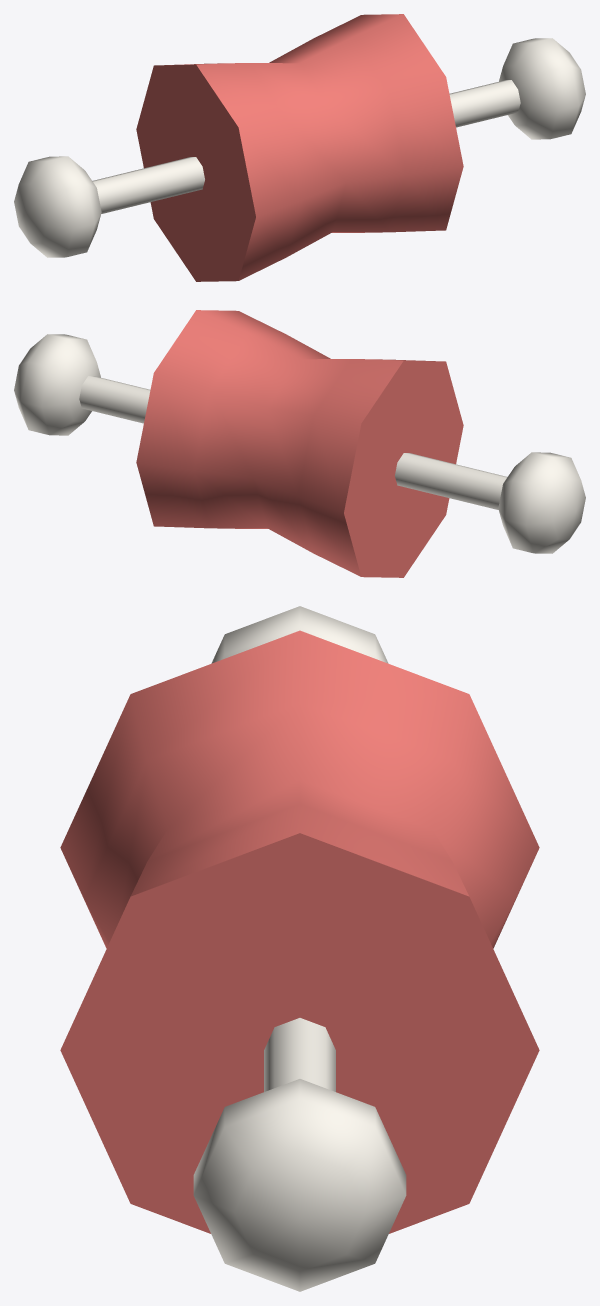
Rendered from meat.fbx.
The picture shows the model from 3 angles, top to bottom: view 1: azimuth 30°, elevation 25°; view 2: azimuth 150°, elevation 25°; view 3: azimuth 270°, elevation 25°; orthographic projection. The views are drawn at different scales.
Parts seen in each view (by area): view 1: Meat_Body, Bone_Center; view 2: Meat_Body, Bone_Center; view 3: Meat_Body, Bone_Center.
Part boxes in pixels (left/top/right/bottom): Meat_Body: left=136, top=14, right=463, bottom=281; Bone_Center: left=14, top=38, right=585, bottom=257; Meat_Body: left=136, top=310, right=463, bottom=577; Bone_Center: left=14, top=334, right=585, bottom=553; Meat_Body: left=60, top=630, right=539, bottom=1233; Bone_Center: left=193, top=606, right=406, bottom=1291.
Size of the model in its own units: 160 by 60 by 60.
